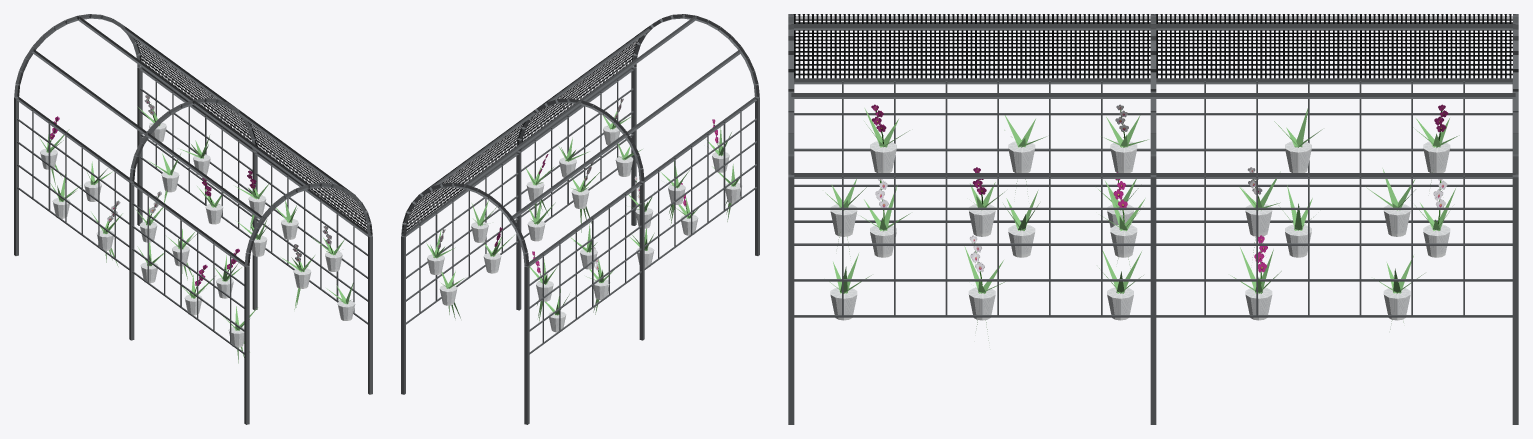
Rendered from lorong_bunga_anggrek.glb.
3 views of the same model, side by side, from view 1: azimuth 30°, elevation 25°; view 2: azimuth 150°, elevation 25°; view 3: azimuth 270°, elevation 25° (orthographic). The views are drawn at different scales.
Visible parts, largest first — view 1: Rangka_Lorong_Besi_Hitam, Pot_Gantung_Putih_Anggrek, Atap_Jaring_Paranet_Hitam, Daun_Anggrek_Dan_Sulur, Bunga_Anggrek_Putih, Bunga_Anggrek_Ungu; view 2: Rangka_Lorong_Besi_Hitam, Pot_Gantung_Putih_Anggrek, Atap_Jaring_Paranet_Hitam, Daun_Anggrek_Dan_Sulur; view 3: Rangka_Lorong_Besi_Hitam, Atap_Jaring_Paranet_Hitam, Pot_Gantung_Putih_Anggrek, Daun_Anggrek_Dan_Sulur, Bunga_Anggrek_Putih, Bunga_Anggrek_Ungu.
Part boxes in pixels (box(x1,y1,x2,y2)): Rangka_Lorong_Besi_Hitam: box(14, 14, 372, 424); Pot_Gantung_Putih_Anggrek: box(40, 122, 355, 347); Atap_Jaring_Paranet_Hitam: box(124, 26, 371, 233); Daun_Anggrek_Dan_Sulur: box(38, 103, 353, 363); Bunga_Anggrek_Putih: box(106, 95, 332, 266); Bunga_Anggrek_Ungu: box(50, 116, 256, 296); Rangka_Lorong_Besi_Hitam: box(401, 14, 759, 424); Pot_Gantung_Putih_Anggrek: box(427, 125, 742, 332); Atap_Jaring_Paranet_Hitam: box(402, 26, 649, 233); Daun_Anggrek_Dan_Sulur: box(426, 110, 742, 321); Rangka_Lorong_Besi_Hitam: box(788, 14, 1518, 424); Atap_Jaring_Paranet_Hitam: box(793, 14, 1515, 78); Pot_Gantung_Putih_Anggrek: box(830, 141, 1450, 320); Daun_Anggrek_Dan_Sulur: box(825, 108, 1459, 340); Bunga_Anggrek_Putih: box(875, 104, 1447, 284); Bunga_Anggrek_Ungu: box(871, 104, 1448, 283).
Size of the model in its own units: 1.47 by 2.36 by 4.44.
7 materials, 4 textured.
